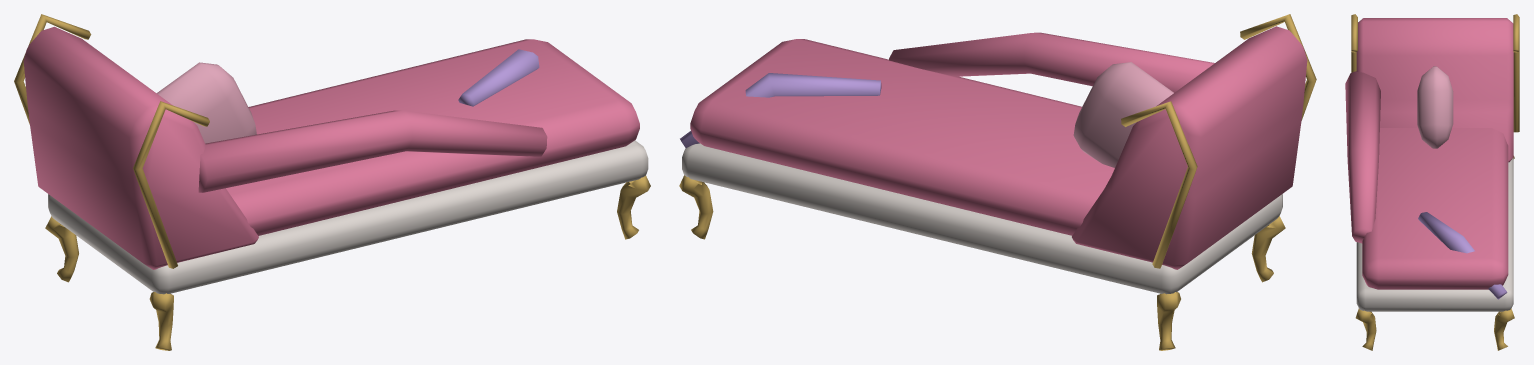
File: chaise_longue.glb
The picture shows the model from 3 angles, left to right: view 1: azimuth 30°, elevation 25°; view 2: azimuth 150°, elevation 25°; view 3: azimuth 270°, elevation 25°; orthographic projection. The views are drawn at different scales.
Parts seen in each view (by area): view 1: chaise_longue; view 2: chaise_longue; view 3: chaise_longue.
Boxes of the visible parts, box(x1,y1,x2,y2) form: chaise_longue: box(14, 14, 650, 350); chaise_longue: box(679, 14, 1316, 350); chaise_longue: box(1345, 14, 1519, 350).
Size of what is drawn, in the model's own units: 1.9 by 0.9 by 0.8.
